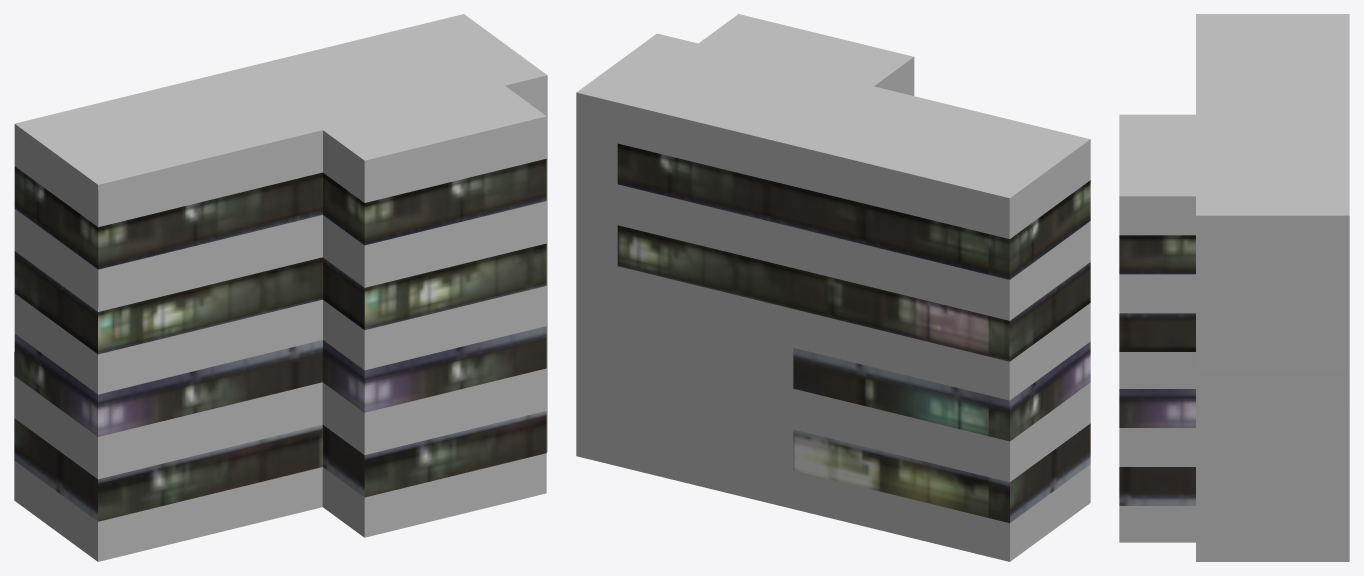
The model's file is hirise_parts06_4f.fbx.
3 views of the same model, side by side, from view 1: azimuth 30°, elevation 25°; view 2: azimuth 150°, elevation 25°; view 3: azimuth 270°, elevation 25° (orthographic). The views are drawn at different scales.
Parts seen in each view (by area): view 1: hirise_parts06_4f; view 2: hirise_parts06_4f; view 3: hirise_parts06_4f.
Boxes of the visible parts, <box> form: hirise_parts06_4f: <box>14,14,547,561</box>; hirise_parts06_4f: <box>576,14,1090,561</box>; hirise_parts06_4f: <box>1119,14,1349,561</box>.
Size of the model in its own units: 17.68 by 14.17 by 8.55.
